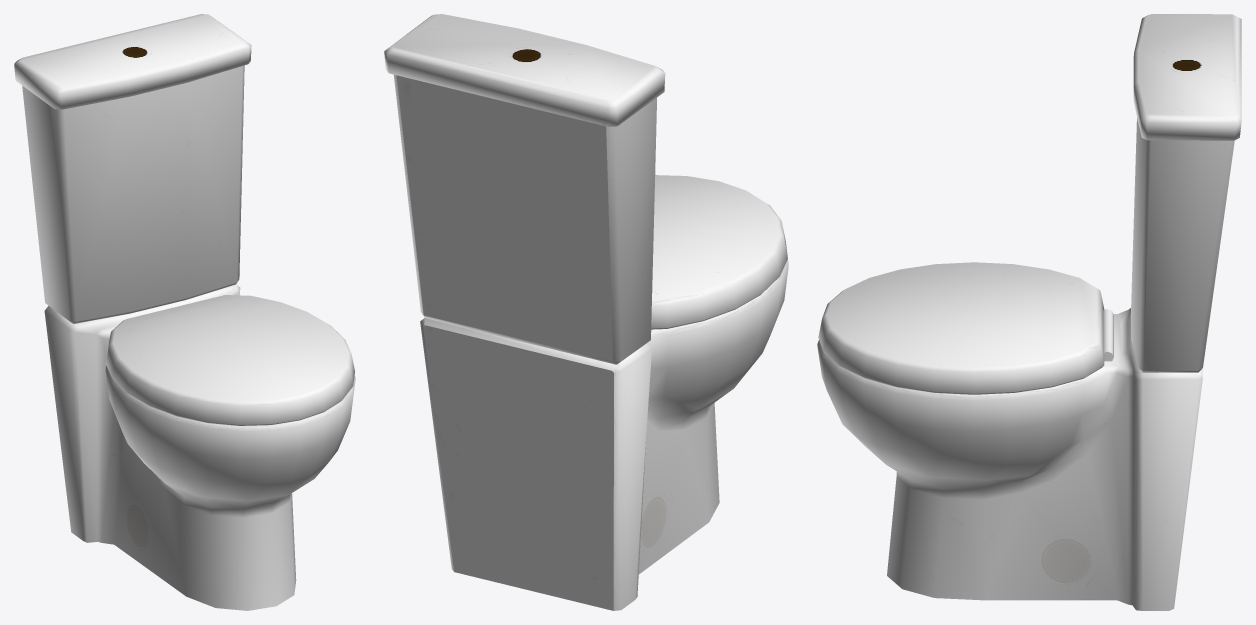
The model's file is Toilet_closed.FBX.
3 views of the same model, side by side, from view 1: azimuth 30°, elevation 25°; view 2: azimuth 150°, elevation 25°; view 3: azimuth 270°, elevation 25° (orthographic). The views are drawn at different scales.
Visible parts, largest first — view 1: Toilet; view 2: Toilet; view 3: Toilet.
Part boxes in pixels (bbox=[...]): Toilet: bbox=[14, 14, 355, 610]; Toilet: bbox=[384, 14, 788, 610]; Toilet: bbox=[817, 14, 1241, 610].
Bounding box in the file's own units: 40.97 × 86.19 × 65.42.
